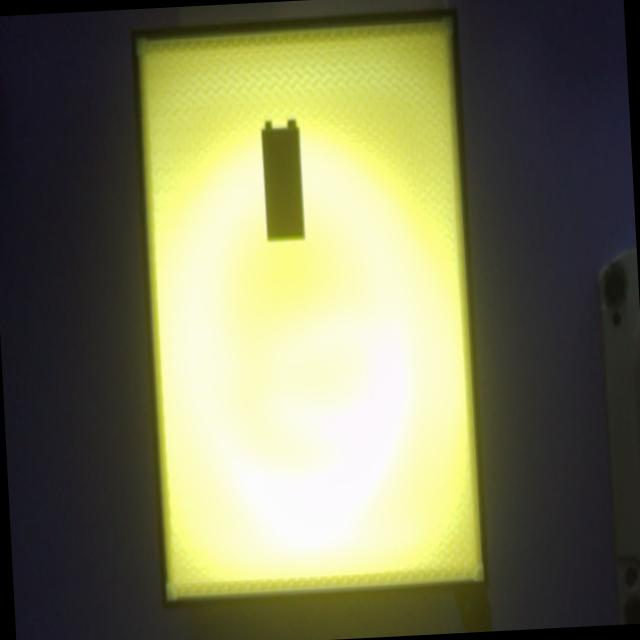bateria: (261, 120, 305, 241)
mesa: (131, 8, 490, 609)
